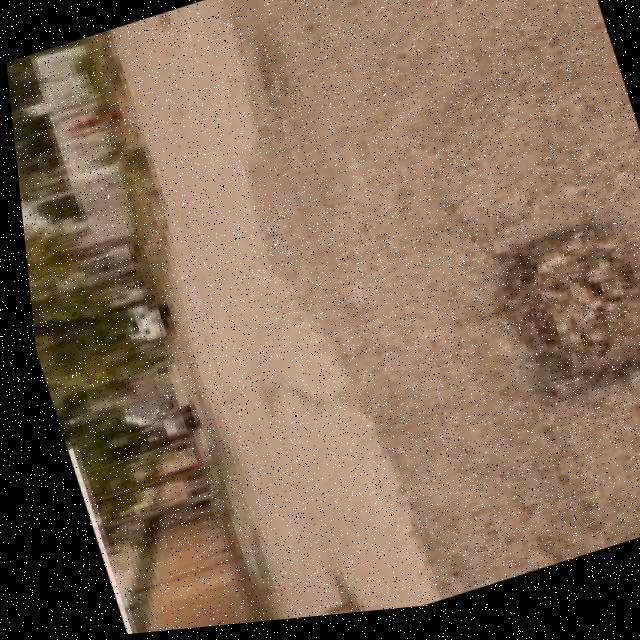Pothole: (493, 227, 640, 406)
